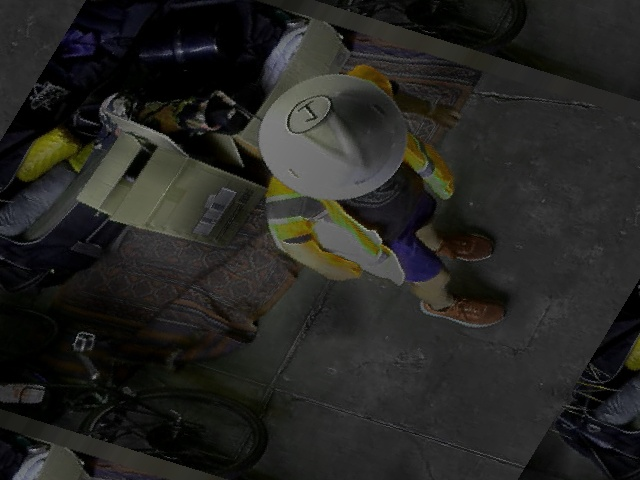one: (279, 89, 336, 139)
